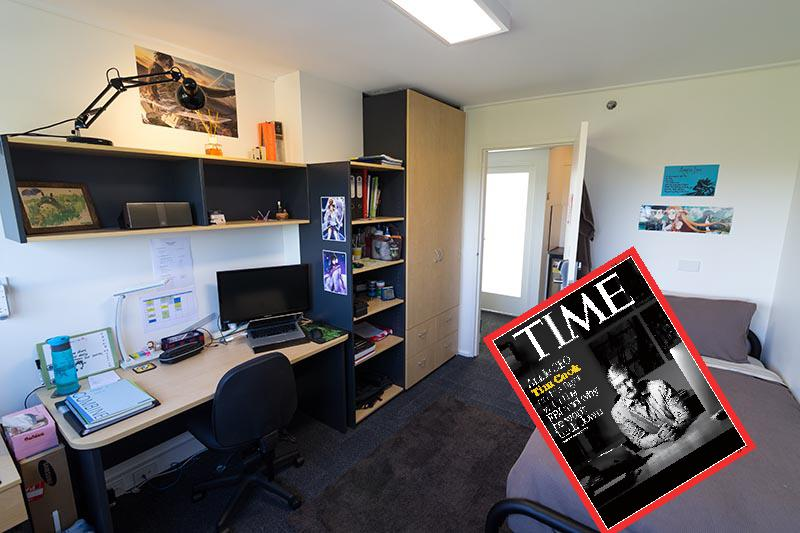times: (481, 243, 760, 533)
